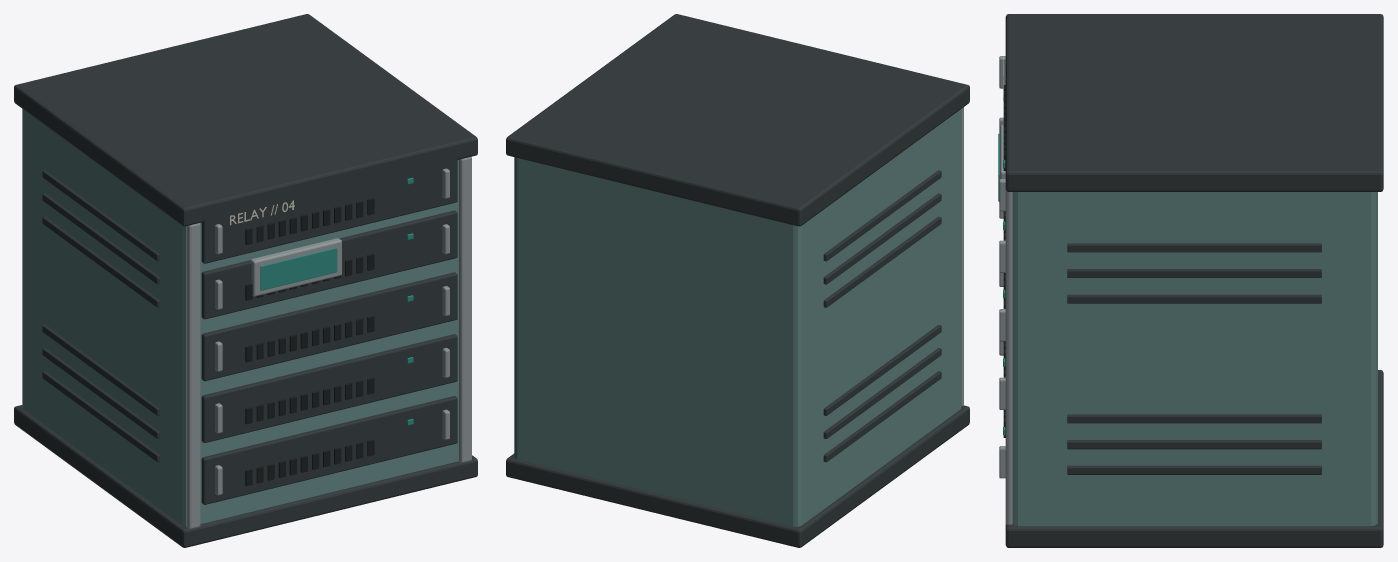
File: relay-equipment.glb
The picture shows the model from 3 angles, left to right: view 1: azimuth 30°, elevation 25°; view 2: azimuth 150°, elevation 25°; view 3: azimuth 270°, elevation 25°; orthographic projection. The views are drawn at different scales.
Parts seen in each view (by area): view 1: relay-equipment; view 2: relay-equipment; view 3: relay-equipment.
Part boxes in pixels (x1,y1,x2,y2): relay-equipment: (14,14,477,547); relay-equipment: (506,14,969,547); relay-equipment: (998,14,1383,547).
Size of what is drawn, in the model's own units: 2 by 2.2 by 2.04.
